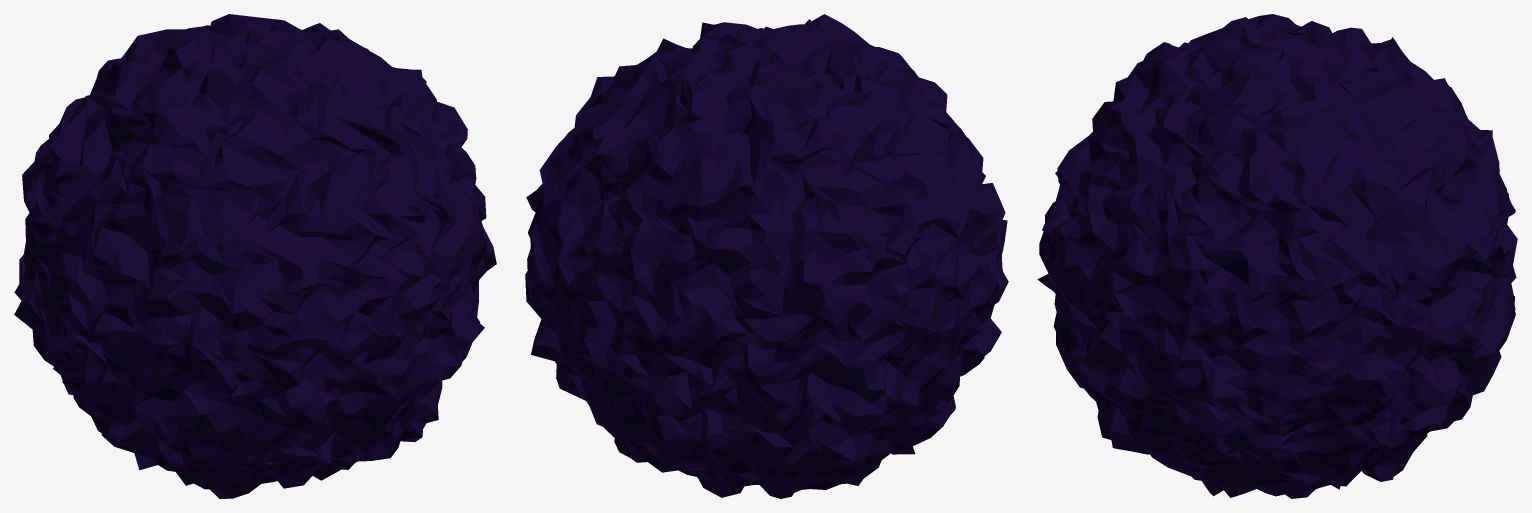
The model's file is Background.fbx.
The picture shows the model from 3 angles, left to right: view 1: azimuth 30°, elevation 25°; view 2: azimuth 150°, elevation 25°; view 3: azimuth 270°, elevation 25°; orthographic projection.
Visible parts, largest first — view 1: GeoSphere001; view 2: GeoSphere001; view 3: GeoSphere001.
Part boxes in pixels (x1,y1,x2,y2): GeoSphere001: (14,14,496,498); GeoSphere001: (525,14,1008,498); GeoSphere001: (1037,14,1517,498).
Size of the model in its own units: 81.45 by 81.34 by 81.4.
